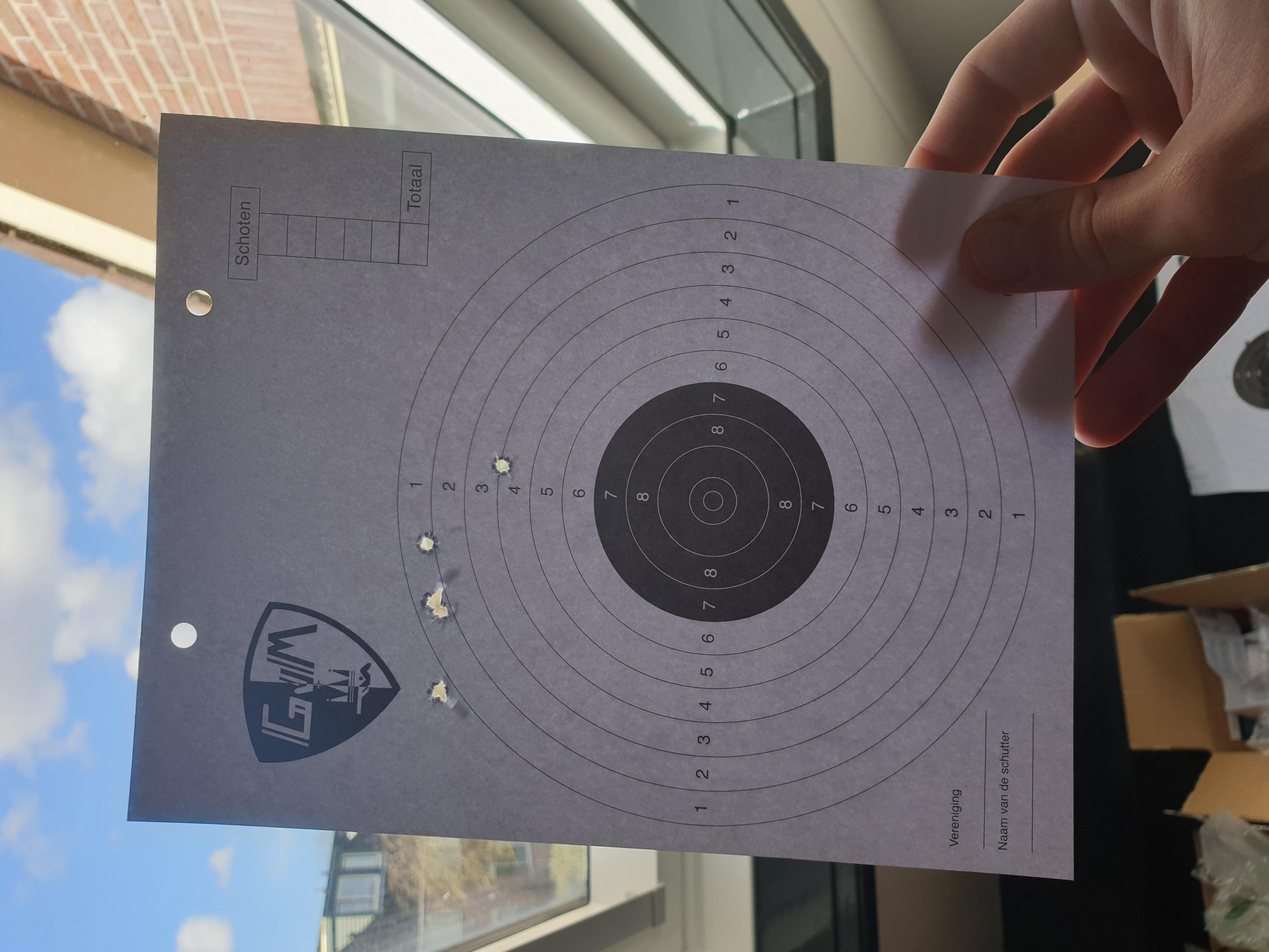hole: (325, 320, 365, 338), (630, 368, 666, 386), (529, 311, 560, 330), (454, 315, 486, 333), (436, 323, 465, 339)
